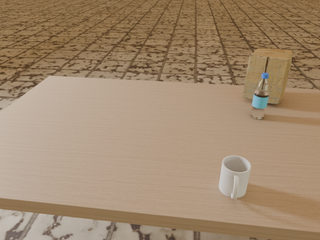bottle: (251, 73, 269, 119)
box: (243, 48, 292, 104)
cup: (219, 156, 251, 199)
